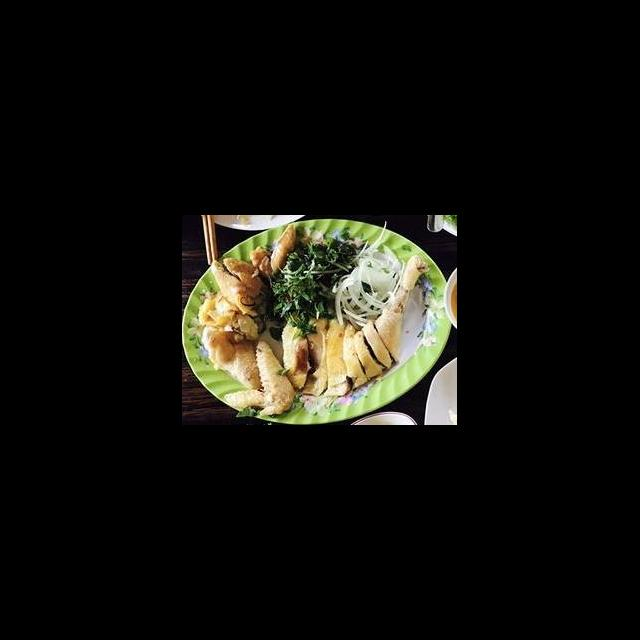rau ram: (264, 228, 372, 338)
thit ga: (279, 316, 396, 398), (210, 221, 298, 318), (372, 253, 430, 365), (222, 338, 296, 420), (200, 324, 264, 392)
